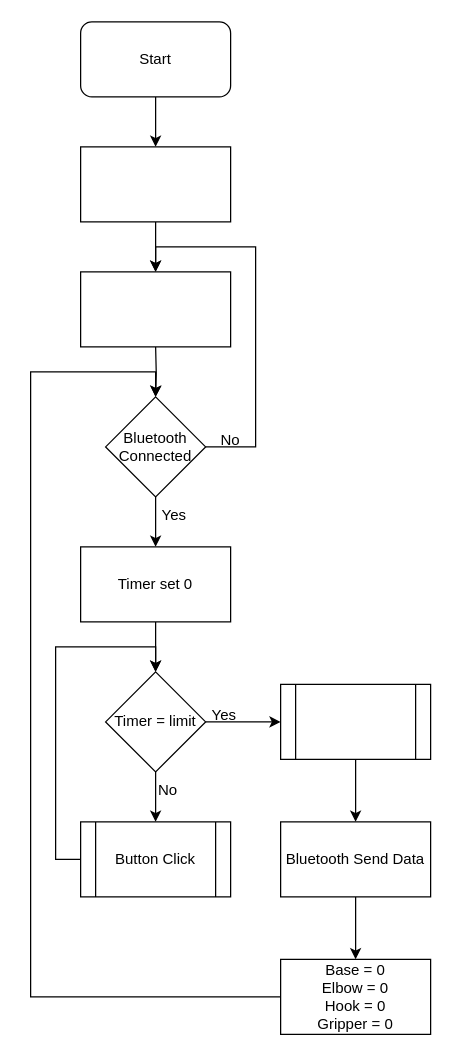
The diagram is 453 pixels wide and 1056 high, and some of its shapes have lost their labels. The centre of each missing label's shape, as x and y in pixels:
Bluetooth Connection: the point at 155,309
Concat: the point at 355,721
Int Base = 0 Int Elbow = 0 Int Hook = 0 Int Gripper = 0: the point at 155,184
